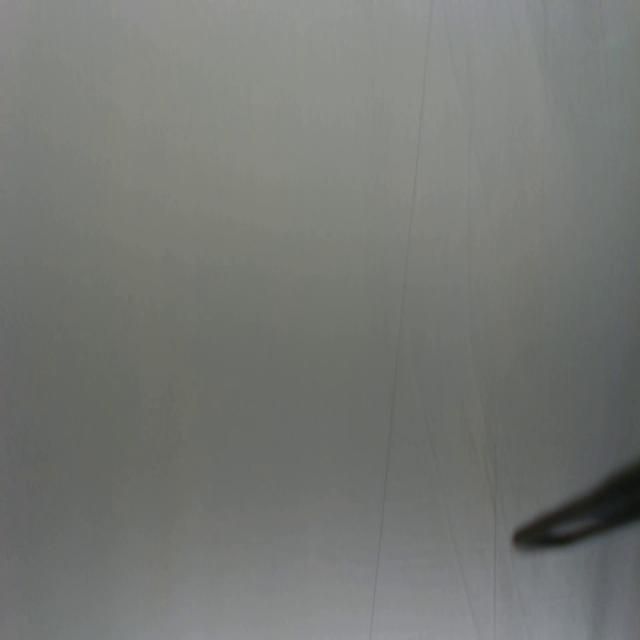crease: (368, 0, 435, 640), (489, 434, 501, 639)
